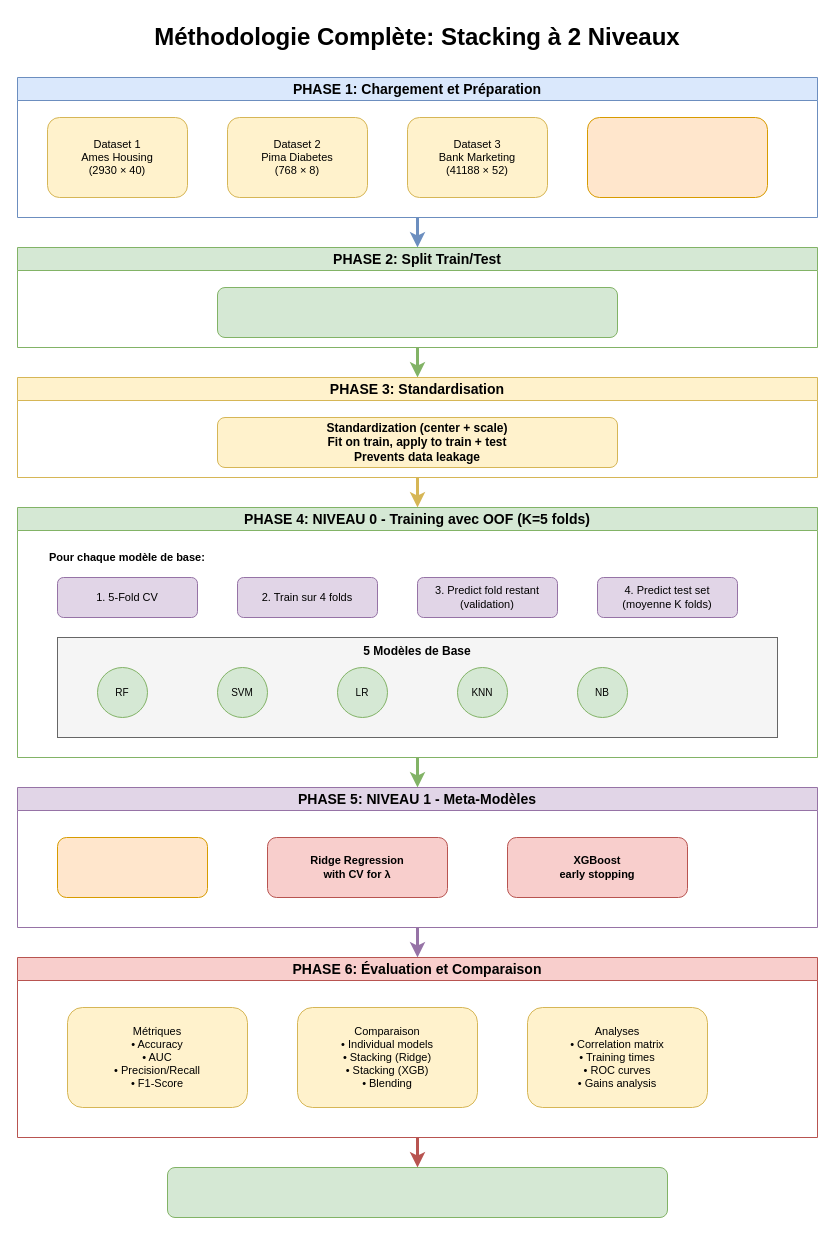
The diagram is 835 pixels wide and 1235 high, and some of its shapes have lost their labels. Each missing label, with the centre of its shape:
Input: OOF Predictions [n_train × 5]: the point at 132,867
Preprocessing • Imputation • Encoding • NZV removal: the point at 677,157
Train/Test Split (80/20) Stratified by target class seed=42 for reproducibility: the point at 417,312
✓ Résultats sauvegardés (CSV + visualisations PNG): the point at 417,1192
